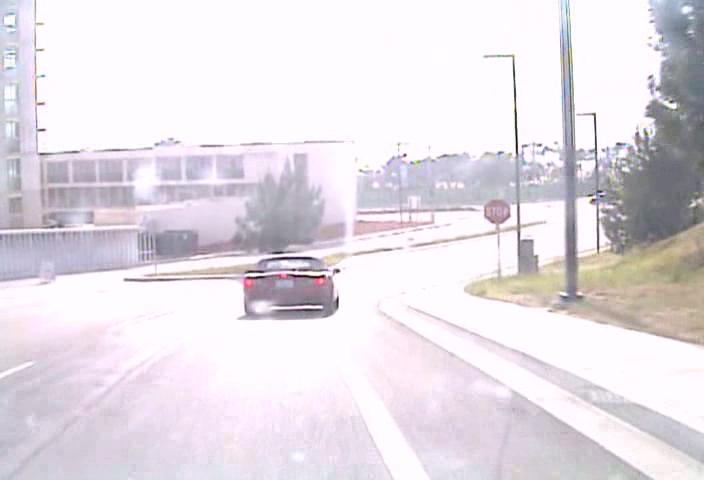stop: (483, 198, 511, 224)
